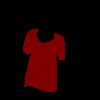maglia: (22, 29, 65, 92)
